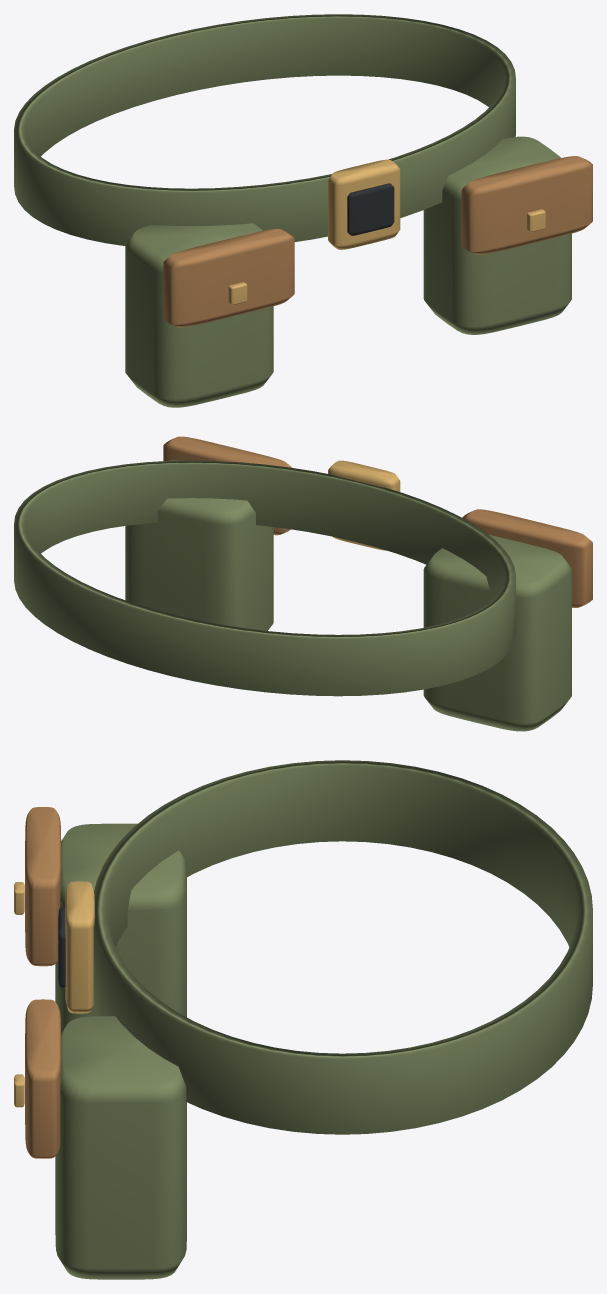
Rendered from 15-pouches.glb.
3 renders of one model, top to bottom at view 1: azimuth 30°, elevation 25°; view 2: azimuth 150°, elevation 25°; view 3: azimuth 270°, elevation 25°, orthographic. The views are drawn at different scales.
Visible parts, largest first — view 1: 15-pouches; view 2: 15-pouches; view 3: 15-pouches.
Boxes of the visible parts, bbox=[...] form: 15-pouches: bbox=[14, 14, 592, 407]; 15-pouches: bbox=[14, 436, 592, 731]; 15-pouches: bbox=[14, 760, 592, 1279].
Bounding box in the file's own units: 0.327 × 0.127 × 0.2669.
